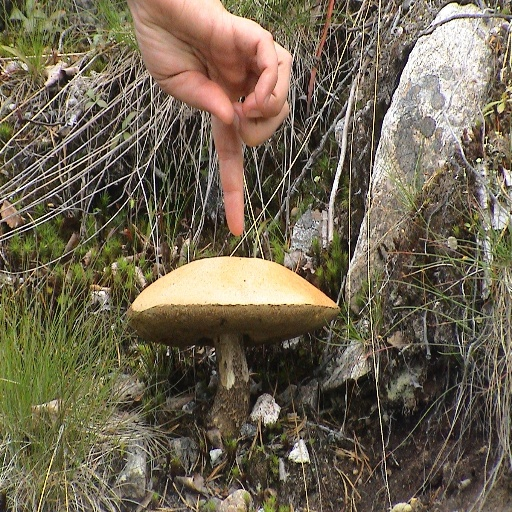hand: (131, 3, 313, 219)
